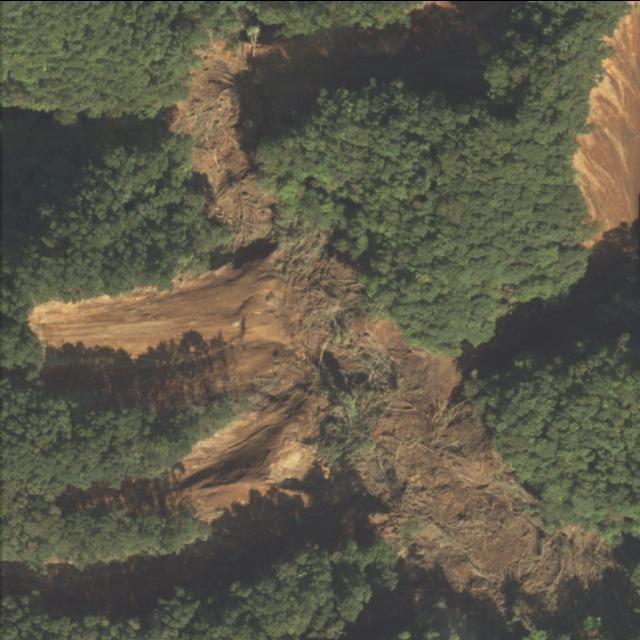landslide: (2, 238, 638, 640), (173, 0, 476, 246), (575, 7, 640, 230)
